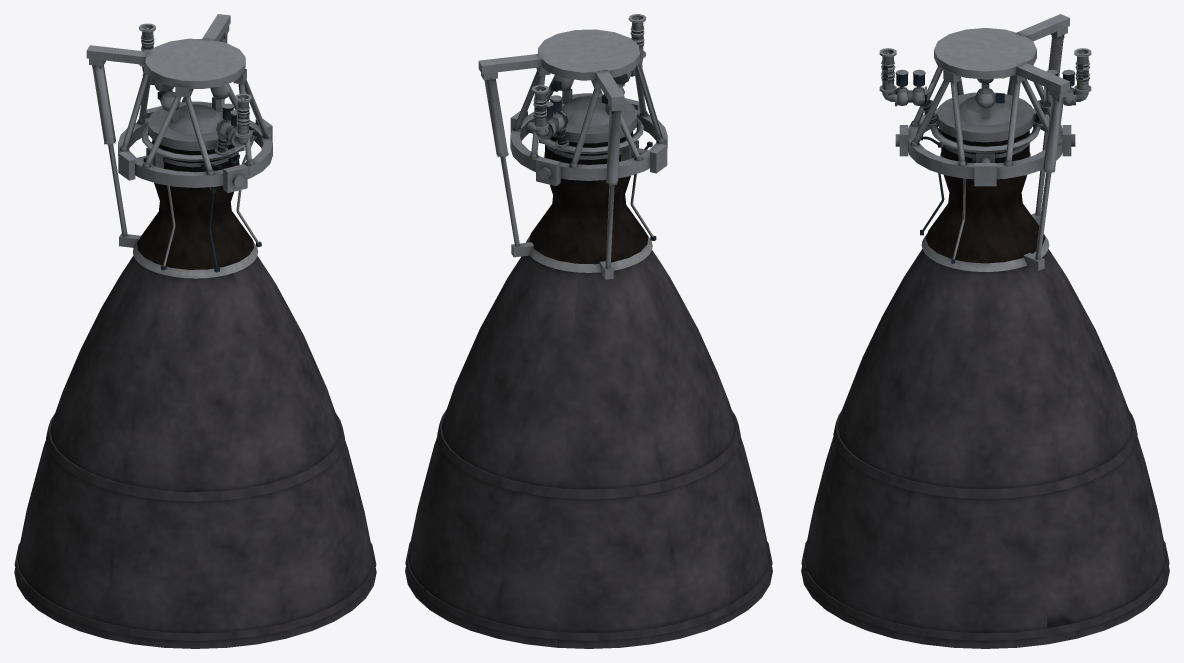
File: eng_hypergolic_storable.glb
3 views of the same model, side by side, from view 1: azimuth 30°, elevation 25°; view 2: azimuth 150°, elevation 25°; view 3: azimuth 270°, elevation 25° (orthographic).
Visible parts, largest first — view 1: eng_hypergolic_storable_mesh; view 2: eng_hypergolic_storable_mesh; view 3: eng_hypergolic_storable_mesh.
Part boxes in pixels (left/top/right/bottom): eng_hypergolic_storable_mesh: left=14, top=14, right=376, bottom=648; eng_hypergolic_storable_mesh: left=405, top=14, right=772, bottom=648; eng_hypergolic_storable_mesh: left=801, top=14, right=1169, bottom=648.
Bounding box in the file's own units: 2.5 × 3.9 × 2.5.
Materials: 1 (1 with a texture image).
